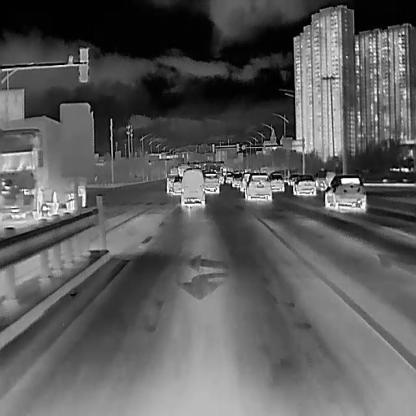car: (0, 113, 86, 222), (324, 172, 366, 212), (180, 168, 205, 208), (245, 172, 272, 201), (293, 173, 315, 196), (202, 170, 218, 193), (268, 172, 283, 193), (172, 175, 182, 194), (232, 172, 242, 188), (167, 175, 175, 192)
